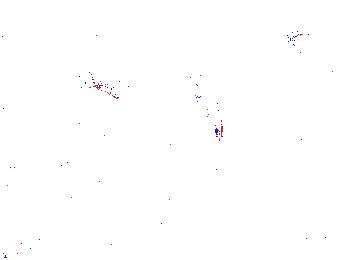glassfish: (187, 68, 225, 143)
red belly glassfish: (236, 68, 256, 80)
redtail glassfish: (90, 77, 136, 99)
